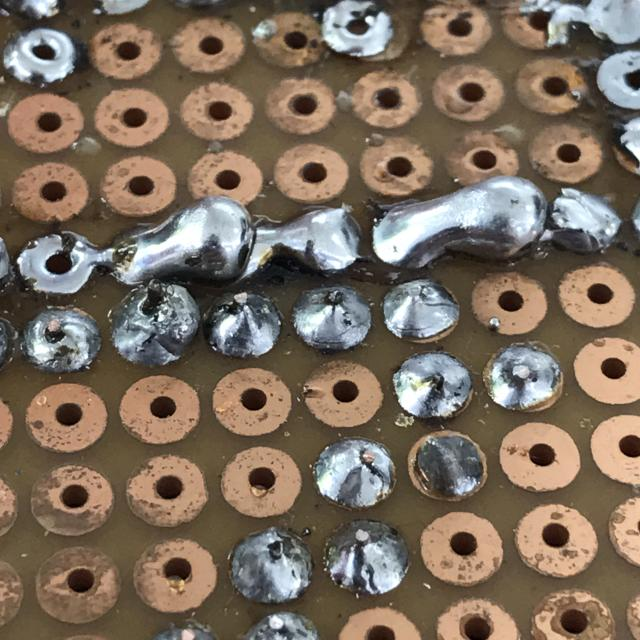bridge: (103, 187, 370, 297), (365, 165, 560, 281)
good: (316, 510, 417, 603), (306, 432, 406, 516)
hole: (108, 278, 205, 372), (15, 298, 110, 380)
pad_less: (398, 423, 498, 508), (477, 334, 572, 421), (376, 272, 466, 351)
